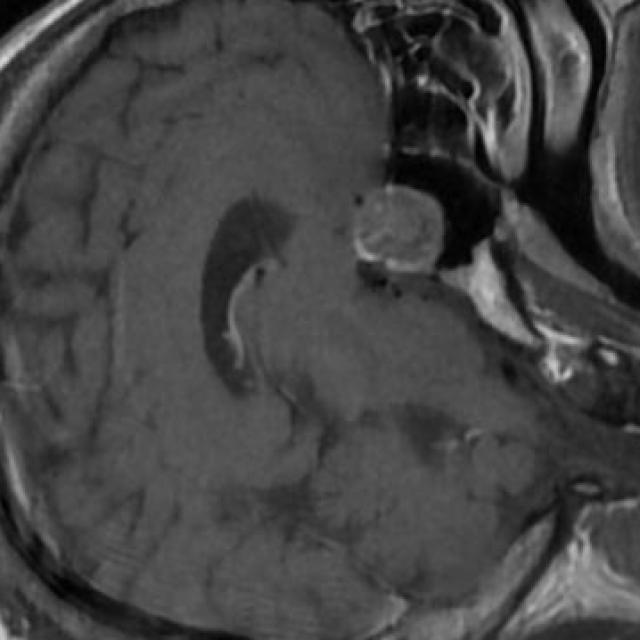pituitary: (355, 185, 444, 273)
